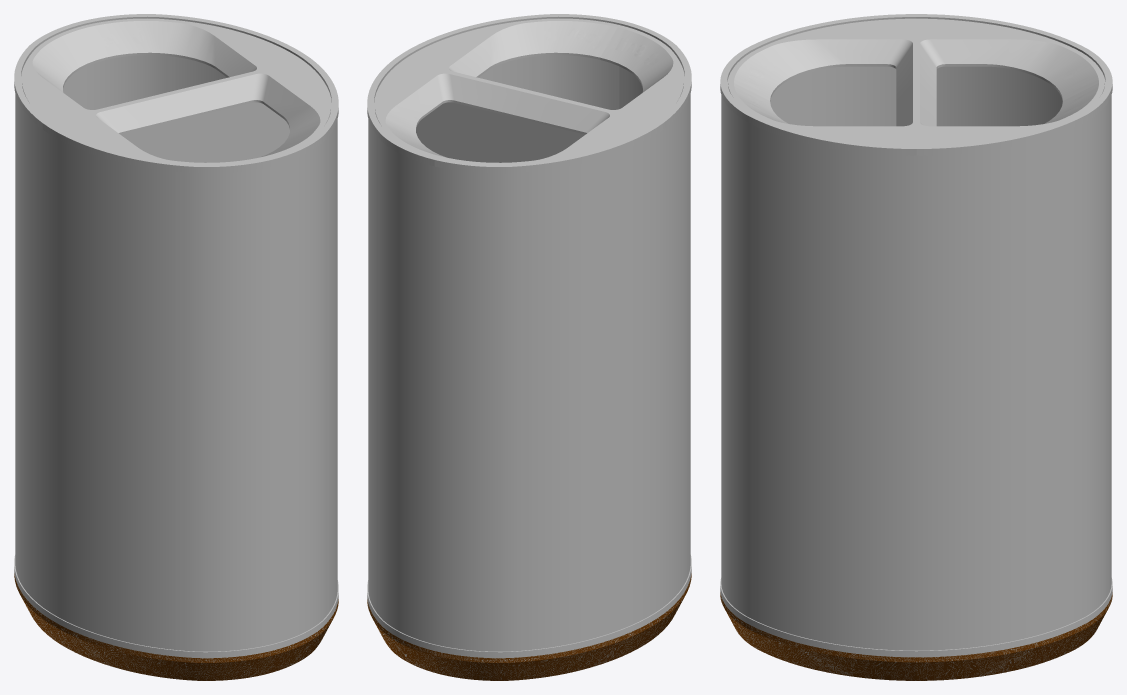
3 renders of one model, left to right at view 1: azimuth 30°, elevation 25°; view 2: azimuth 150°, elevation 25°; view 3: azimuth 270°, elevation 25°, orthographic. The views are drawn at different scales.
Visible parts, largest first — view 1: mesh8_mesh8-geometry, mesh7_mesh7-geometry, mesh10_mesh10-geometry, mesh9_mesh9-geometry, mesh3_mesh3-geometry, mesh2_mesh2-geometry, mesh6_mesh6-geometry, mesh50_mesh50-geometry, mesh1_mesh1-geometry, mesh4_mesh4-geometry; view 2: mesh8_mesh8-geometry, mesh5_mesh5-geometry, mesh9_mesh9-geometry, mesh10_mesh10-geometry, mesh3_mesh3-geometry, mesh4_mesh4-geometry, mesh1_mesh1-geometry, mesh6_mesh6-geometry, mesh50_mesh50-geometry, mesh2_mesh2-geometry; view 3: mesh6_mesh6-geometry, mesh5_mesh5-geometry, mesh7_mesh7-geometry, mesh9_mesh9-geometry, mesh10_mesh10-geometry, mesh3_mesh3-geometry, mesh4_mesh4-geometry, mesh1_mesh1-geometry, mesh2_mesh2-geometry, mesh50_mesh50-geometry.
Boxes of the visible parts, x1,y1,x2,y2 form: mesh8_mesh8-geometry: [15, 94, 176, 649]; mesh7_mesh7-geometry: [177, 136, 328, 651]; mesh10_mesh10-geometry: [42, 14, 309, 173]; mesh9_mesh9-geometry: [14, 21, 338, 166]; mesh3_mesh3-geometry: [86, 55, 289, 162]; mesh2_mesh2-geometry: [42, 614, 271, 680]; mesh6_mesh6-geometry: [329, 119, 337, 612]; mesh50_mesh50-geometry: [14, 555, 338, 658]; mesh1_mesh1-geometry: [14, 573, 338, 674]; mesh4_mesh4-geometry: [63, 66, 86, 108]; mesh8_mesh8-geometry: [529, 94, 690, 649]; mesh5_mesh5-geometry: [377, 136, 528, 651]; mesh9_mesh9-geometry: [396, 14, 663, 173]; mesh10_mesh10-geometry: [367, 21, 691, 166]; mesh3_mesh3-geometry: [416, 66, 642, 162]; mesh4_mesh4-geometry: [479, 55, 619, 109]; mesh1_mesh1-geometry: [434, 614, 663, 680]; mesh6_mesh6-geometry: [368, 119, 376, 612]; mesh50_mesh50-geometry: [367, 555, 691, 658]; mesh2_mesh2-geometry: [367, 573, 691, 674]; mesh6_mesh6-geometry: [758, 127, 1074, 650]; mesh5_mesh5-geometry: [1074, 95, 1111, 621]; mesh7_mesh7-geometry: [721, 95, 758, 621]; mesh9_mesh9-geometry: [720, 14, 1112, 155]; mesh10_mesh10-geometry: [720, 14, 1112, 155]; mesh3_mesh3-geometry: [770, 66, 896, 126]; mesh4_mesh4-geometry: [936, 66, 1062, 126]; mesh1_mesh1-geometry: [720, 592, 916, 680]; mesh2_mesh2-geometry: [916, 592, 1112, 680]; mesh50_mesh50-geometry: [720, 578, 1112, 657].
Size of the model in its own units: 0.4101 by 0.7604 by 0.5035.
